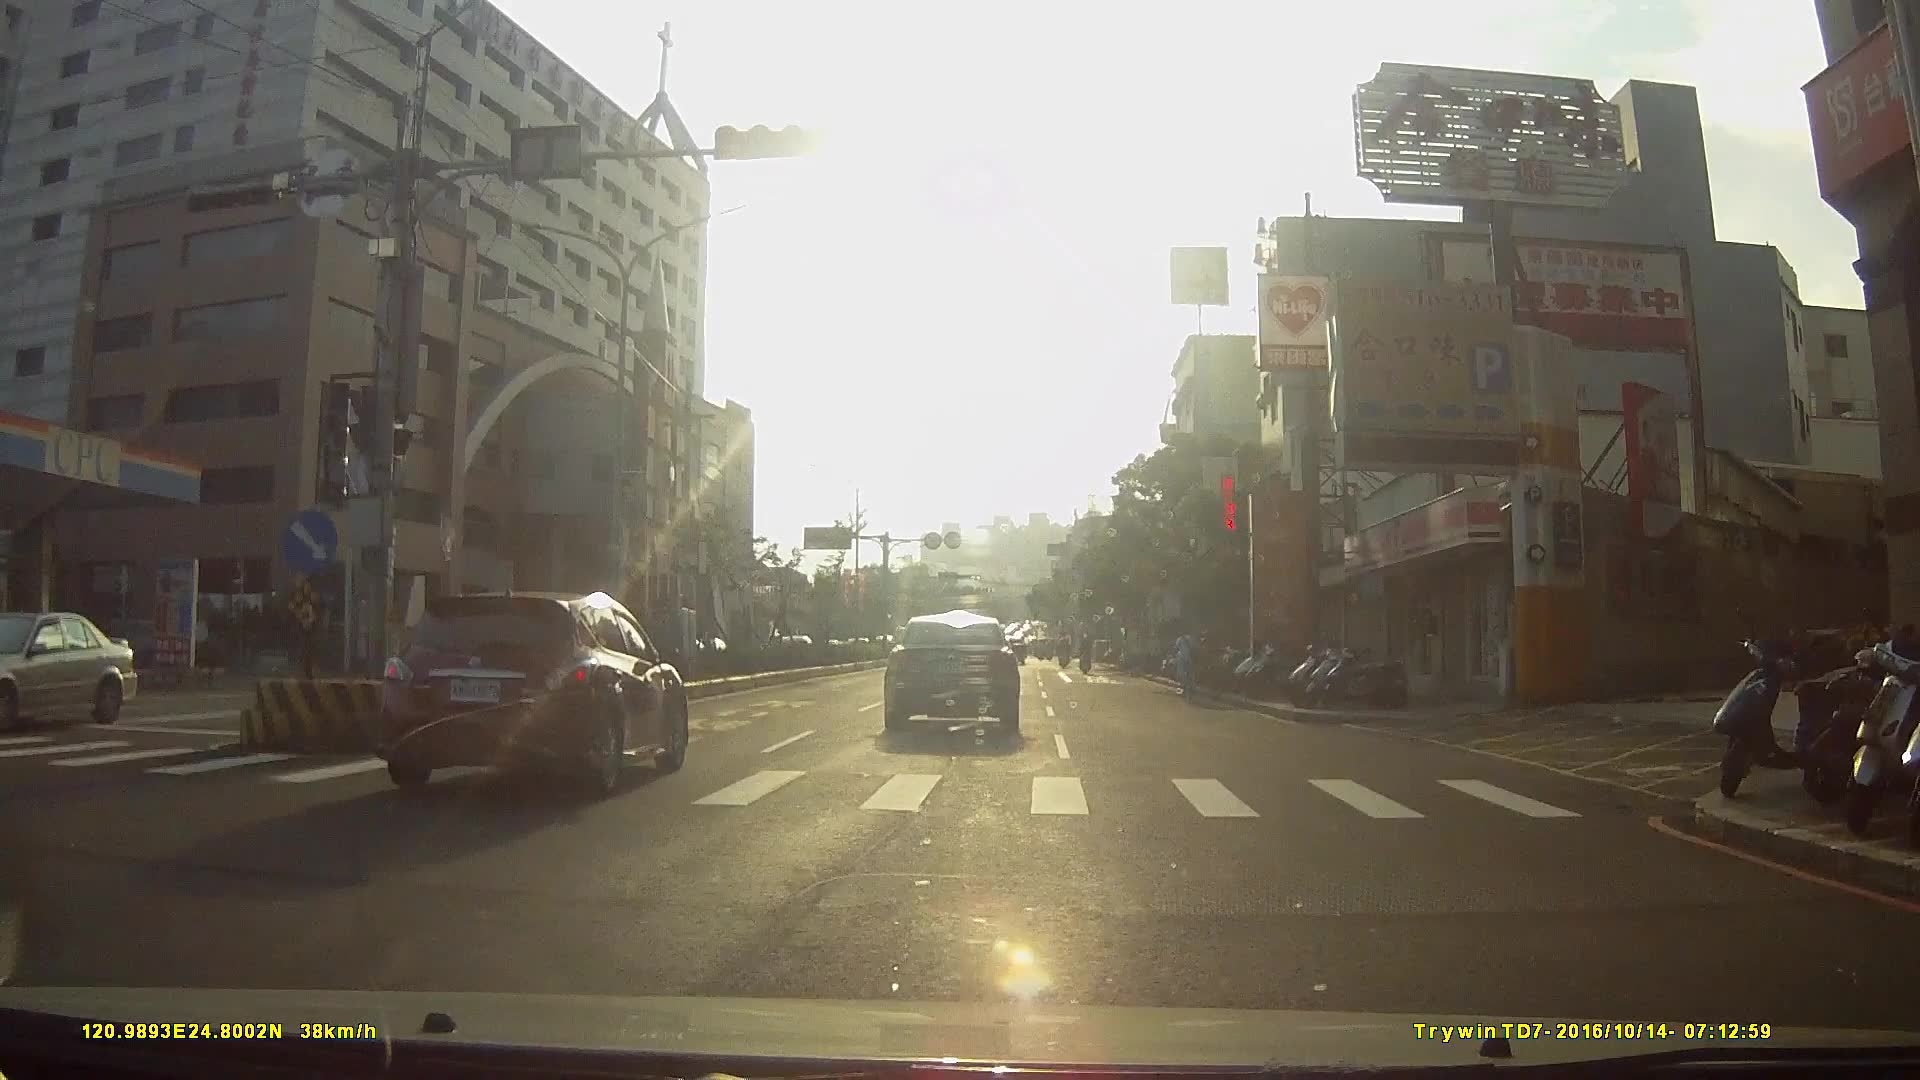rider: (1172, 623, 1202, 707)
vehicle: (369, 580, 700, 802), (879, 604, 1032, 739), (1, 608, 144, 737), (763, 607, 822, 662)
